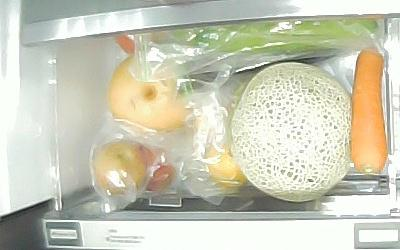carrot: (350, 48, 390, 177)
melon: (231, 62, 353, 202)
pear: (109, 50, 193, 130)
prune_vinyl: (92, 139, 150, 200), (141, 143, 176, 191)
tangerine_vinyl: (204, 137, 248, 187)
zucchini_vinyl: (148, 19, 381, 54)
